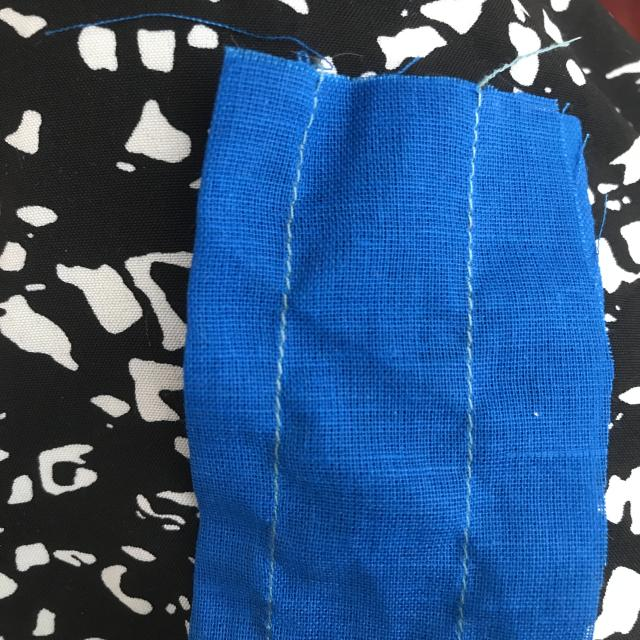good: (455, 322, 484, 495), (460, 120, 480, 296)
